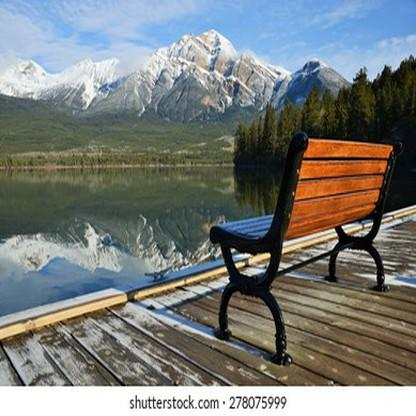obstacle: (189, 124, 395, 362)
